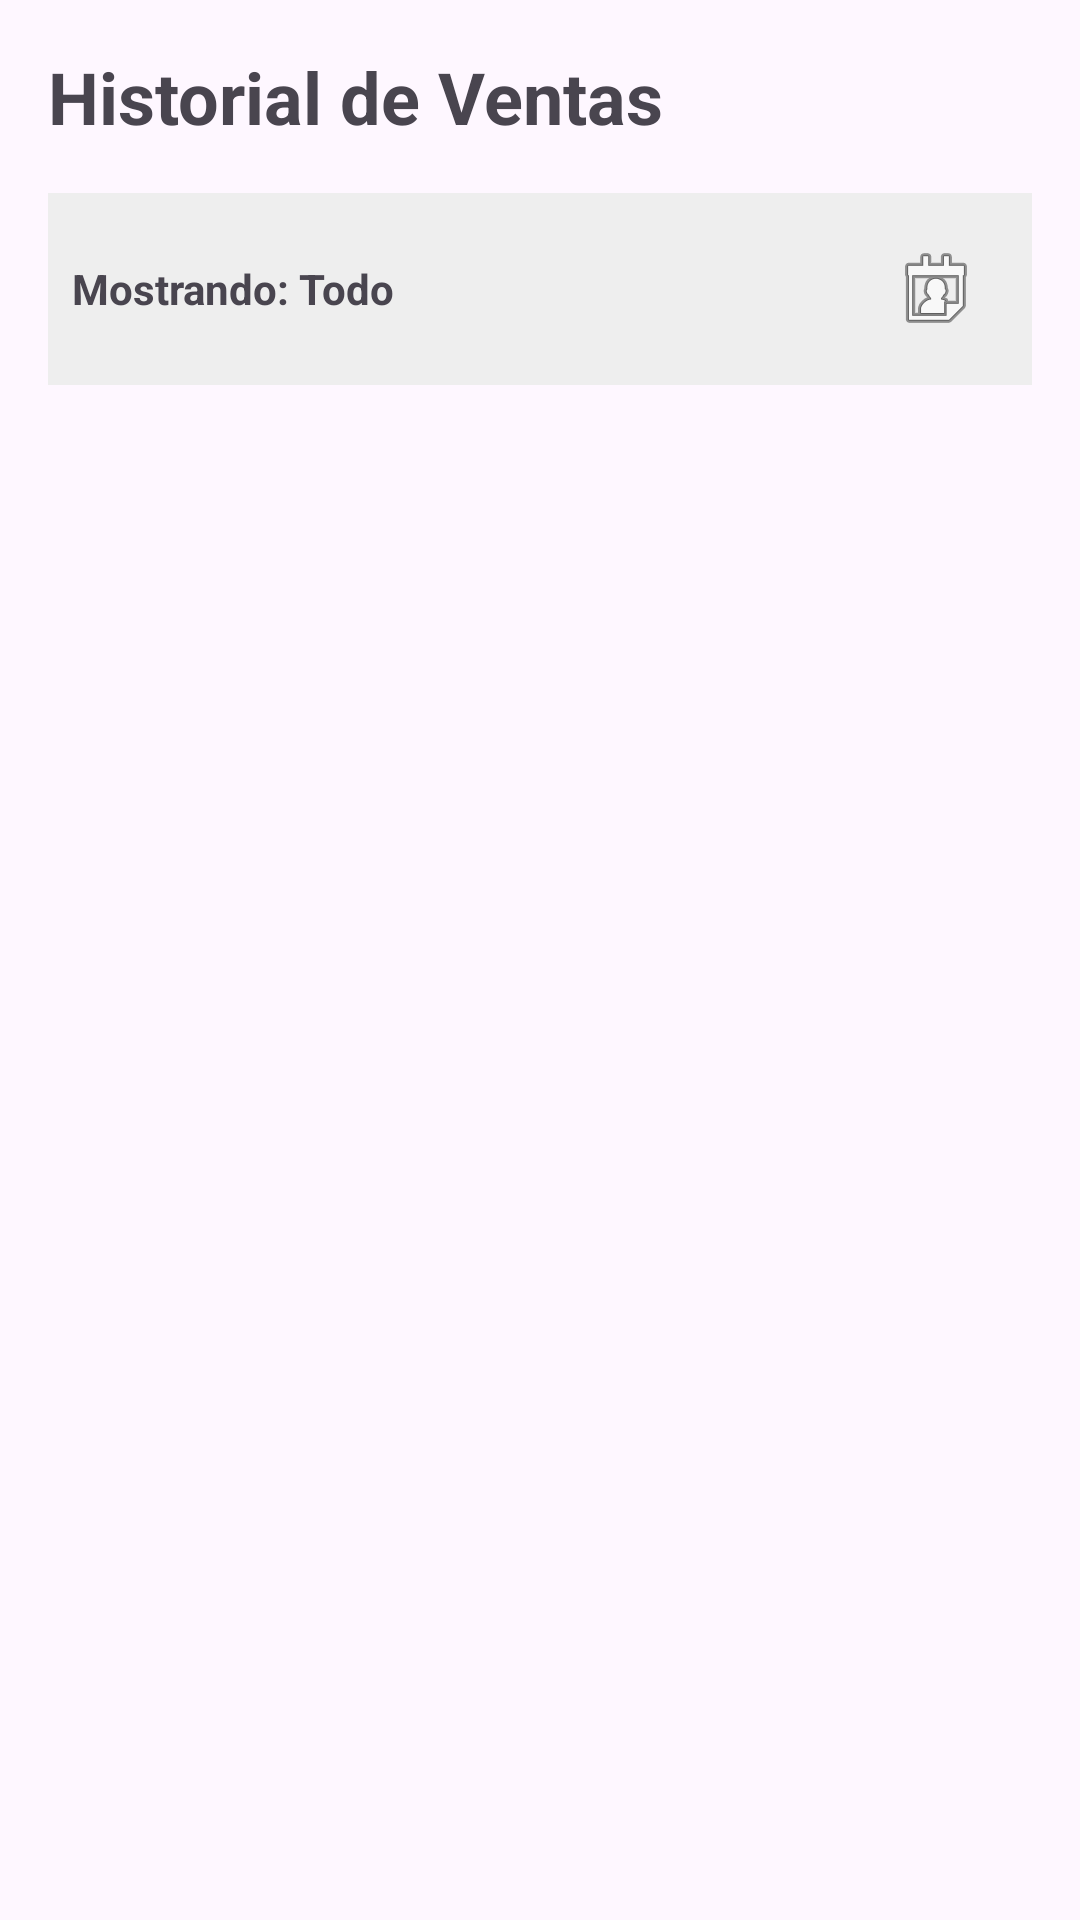

Locate icon controls on the screen. Image size 1080×1920, boxes as (x1, y1, x2, y2).
calendar: (905, 253, 967, 323)
